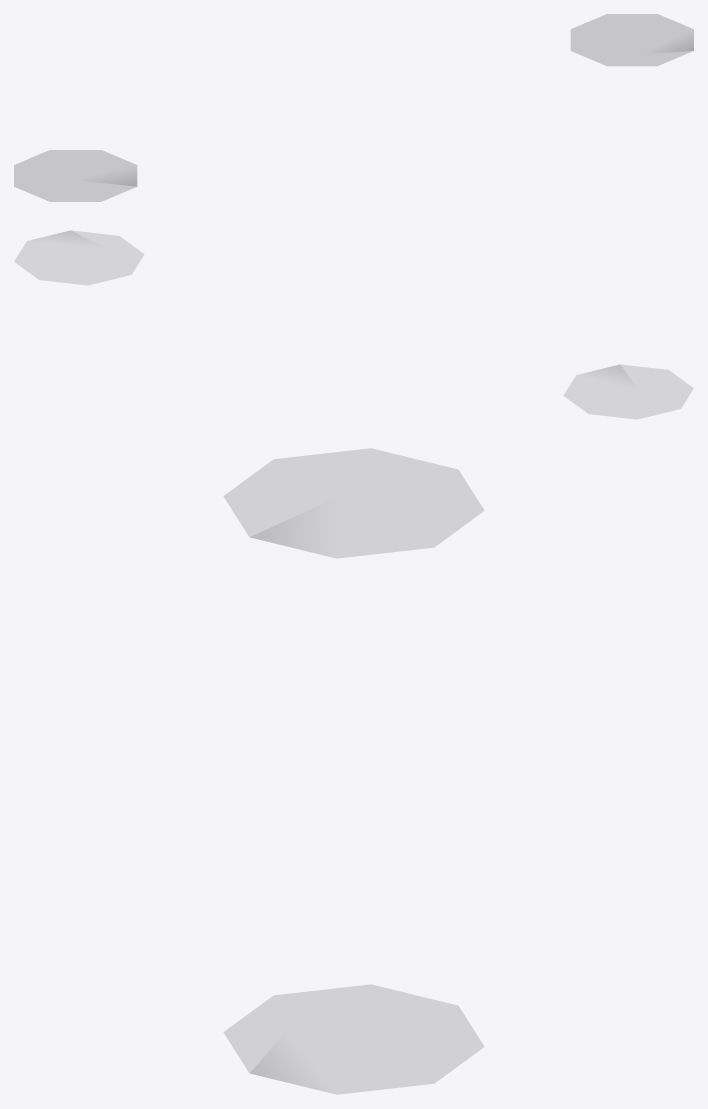
The picture shows the model from 3 angles, top to bottom: view 1: azimuth 30°, elevation 25°; view 2: azimuth 150°, elevation 25°; view 3: azimuth 270°, elevation 25°; orthographic projection. The views are drawn at different scales.
Parts seen in each view (by area): view 1: Joint_0_Object_0, Joint_0_Object_1; view 2: Joint_0_Object_1, Joint_0_Object_0; view 3: Joint_0_Object_0, Joint_0_Object_1.
Boxes of the visible parts, x1,y1,x2,y2 form: Joint_0_Object_0: [14, 150, 136, 201]; Joint_0_Object_1: [571, 14, 693, 65]; Joint_0_Object_1: [14, 230, 143, 285]; Joint_0_Object_0: [564, 364, 693, 419]; Joint_0_Object_0: [224, 448, 484, 558]; Joint_0_Object_1: [224, 984, 483, 1094].
Size of the model in its own units: 1582 by 0.7565 by 270.
1 material, 1 textured.
